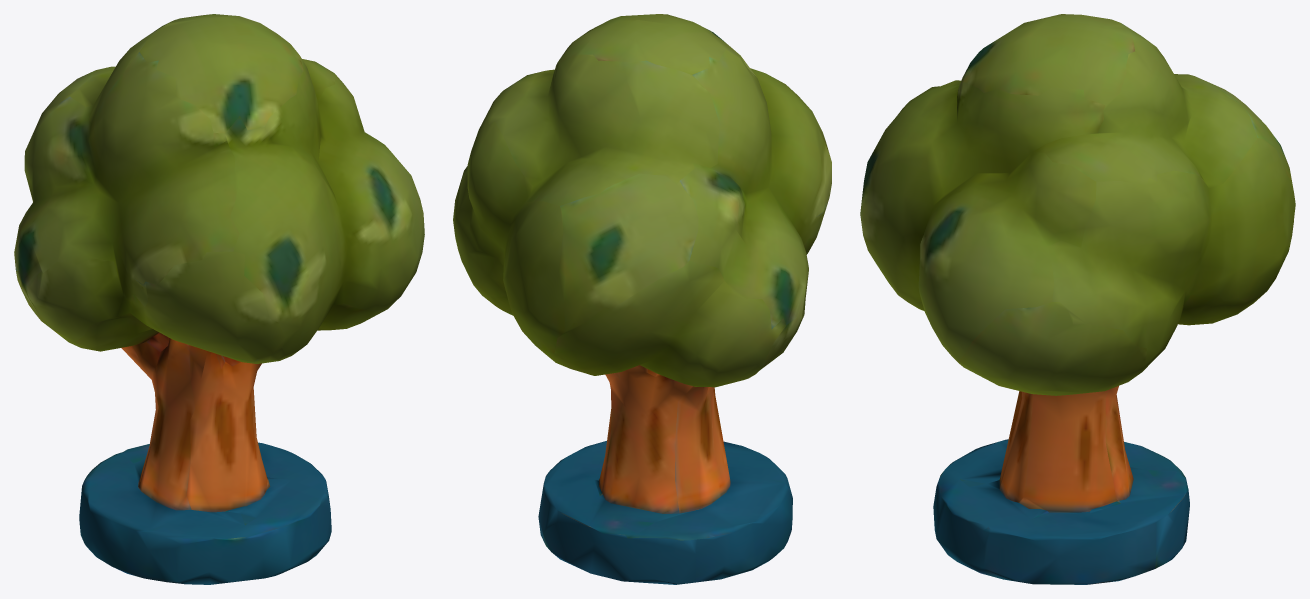
The model's file is tree-round.lod.glb.
3 renders of one model, left to right at view 1: azimuth 30°, elevation 25°; view 2: azimuth 150°, elevation 25°; view 3: azimuth 270°, elevation 25°, orthographic. The views are drawn at different scales.
Visible parts, largest first — view 1: textured_mesh.obj; view 2: textured_mesh.obj; view 3: textured_mesh.obj.
Boxes of the visible parts, x1,y1,x2,y2 form: textured_mesh.obj: (14,14,424,584); textured_mesh.obj: (453,14,831,584); textured_mesh.obj: (860,14,1295,584).
Bounding box in the file's own units: 0.7275 × 0.9972 × 0.7649.
Materials: 1 (1 with a texture image).
